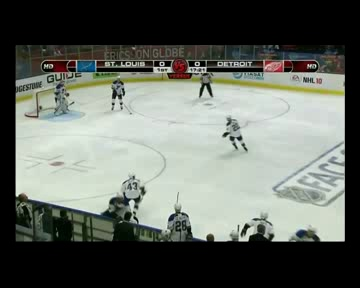normal: (216, 112, 249, 157), (105, 75, 130, 117)
